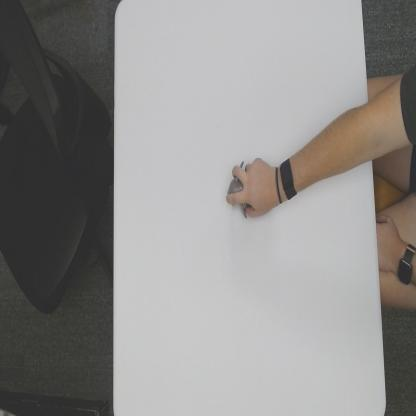Arm: (294, 103, 368, 190)
Elephant: (226, 154, 250, 219)
Hand: (225, 157, 281, 220)
